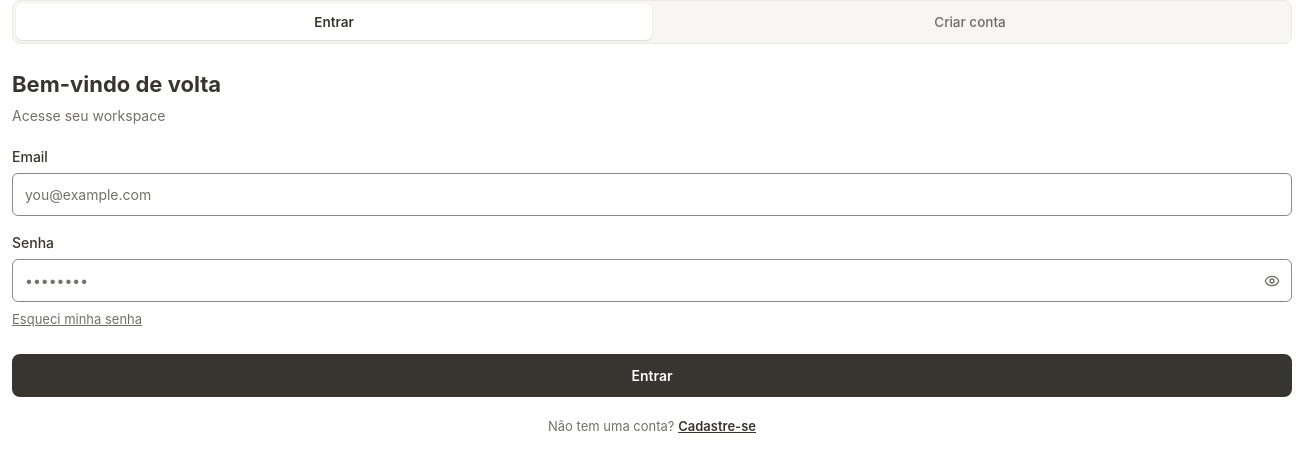
Test: AuthForm: login › mostra/oculta a senha e avisa do Caps Lock
Step 1. Click the button named "Mostrar senha" → [1272, 281], box [1256, 265, 1288, 297]
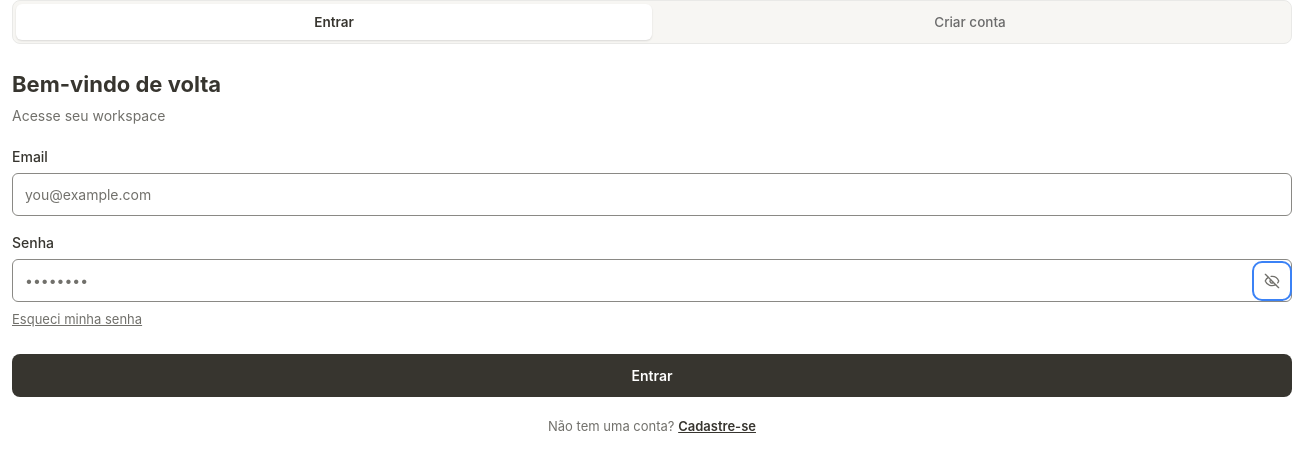
Step 2. Press a in the field labelled "Senha", box [12, 259, 1292, 302]
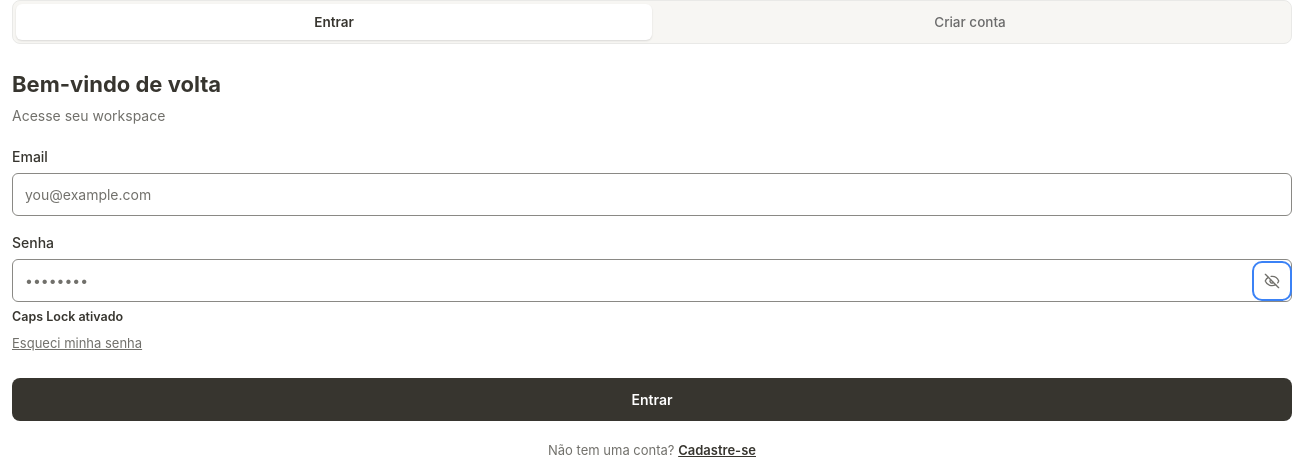
Check: the text "Caps Lock ativado" is shown, box [12, 309, 123, 324]
